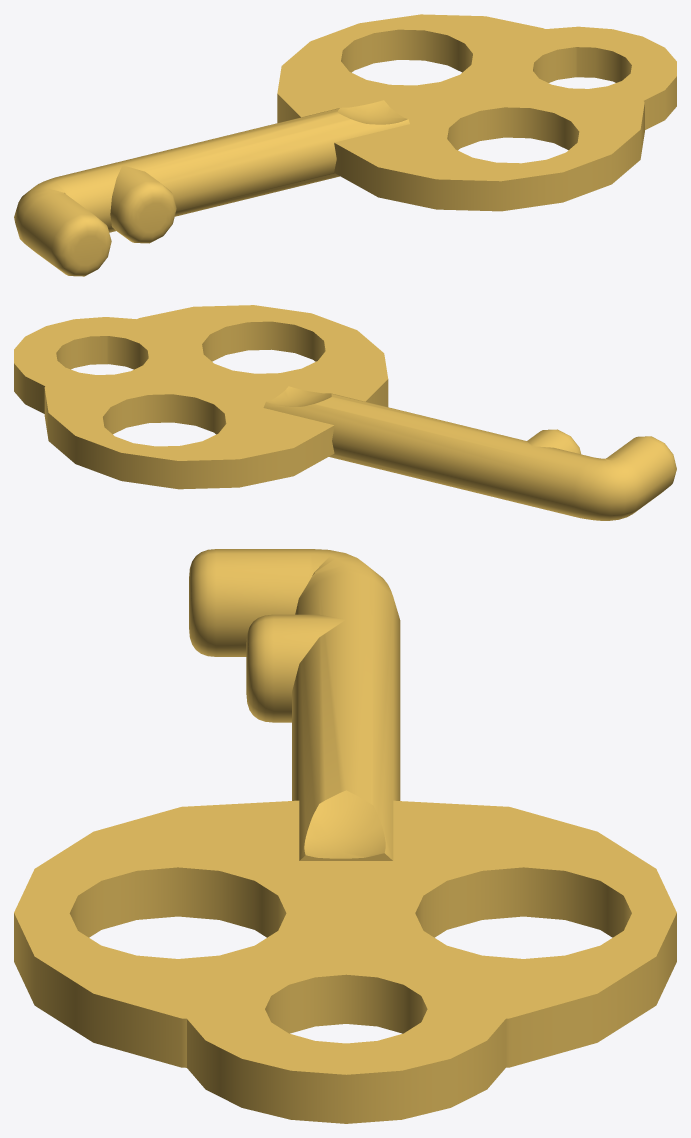
File: JEWELRY BOX KEY.fbx
3 views of the same model, one above another, from view 1: azimuth 30°, elevation 25°; view 2: azimuth 150°, elevation 25°; view 3: azimuth 270°, elevation 25° (orthographic). The views are drawn at different scales.
Visible parts, largest first — view 1: KEY TOP_ 001, Line001, Line002; view 2: KEY TOP_ 001, Line001, Line002; view 3: KEY TOP_ 001, Line001, Line002.
Boxes of the visible parts, x1=… form: KEY TOP_ 001: x1=277, y1=14, x2=676, y2=211; Line001: x1=14, y1=100, x2=409, y2=276; Line002: x1=110, y1=165, x2=176, y2=243; KEY TOP_ 001: x1=14, y1=305, x2=388, y2=489; Line001: x1=263, y1=386, x2=676, y2=520; Line002: x1=527, y1=429, x2=580, y2=454; KEY TOP_ 001: x1=14, y1=800, x2=676, y2=1123; Line001: x1=189, y1=549, x2=400, y2=860; Line002: x1=246, y1=614, x2=345, y2=722.
Bounding box in the file's own units: 22.67 × 2 × 12.23.
